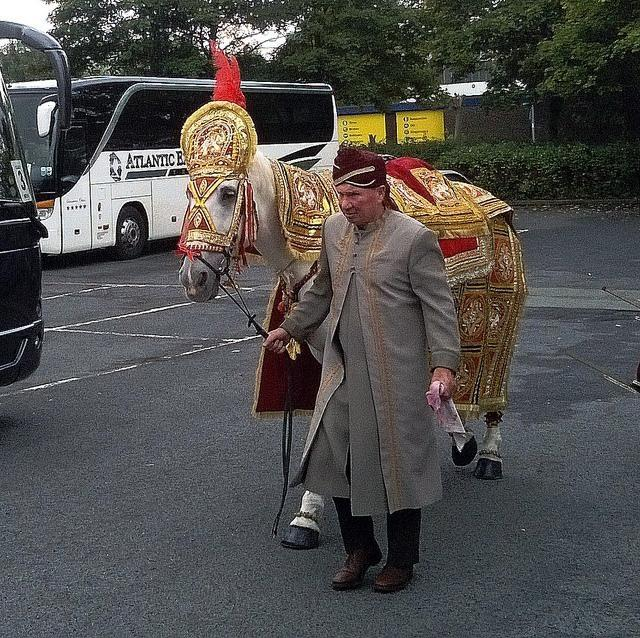bus: (33, 79, 337, 260), (0, 13, 74, 386)
